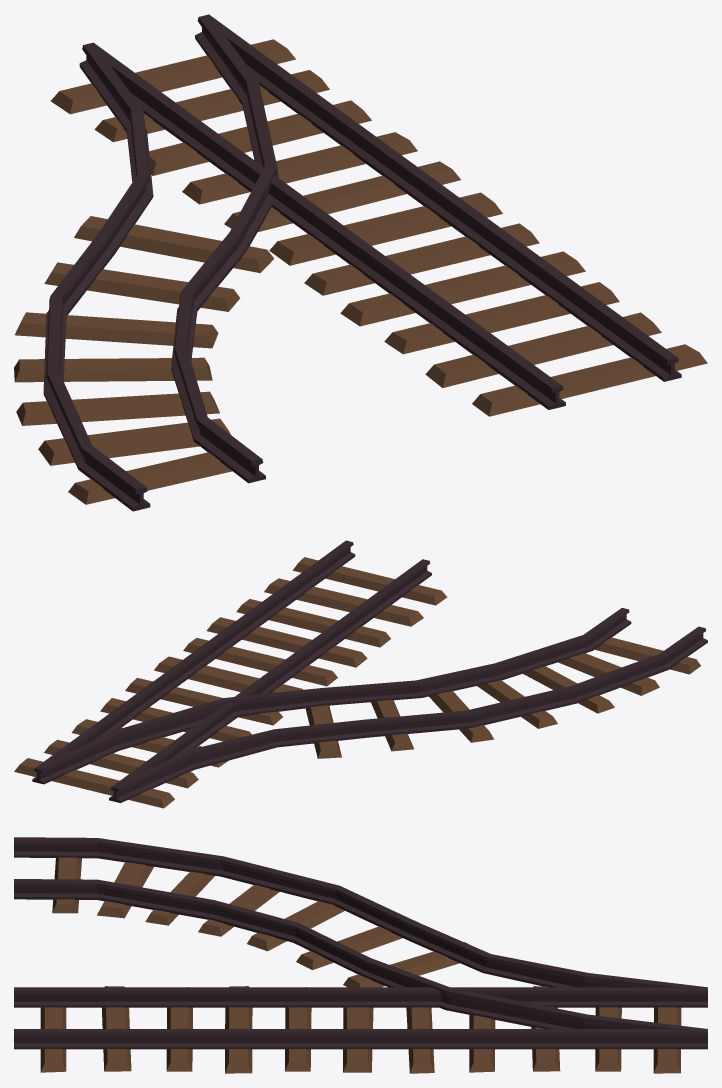
Rendered from railway_double_joint_style_01.fbx.
3 views of the same model, one above another, from view 1: azimuth 30°, elevation 25°; view 2: azimuth 150°, elevation 25°; view 3: azimuth 270°, elevation 25° (orthographic). The views are drawn at different scales.
Parts seen in each view (by area): view 1: double_joint; view 2: double_joint; view 3: double_joint.
Part boxes in pixels (x1=…): double_joint: x1=14, y1=14, x2=707, y2=511; double_joint: x1=14, y1=540, x2=707, y2=808; double_joint: x1=14, y1=837, x2=707, y2=1073.
Size of the model in its own units: 430 by 22.62 by 568.
